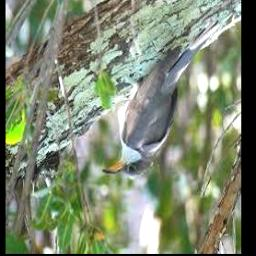Cuckoo: (103, 36, 211, 180)
